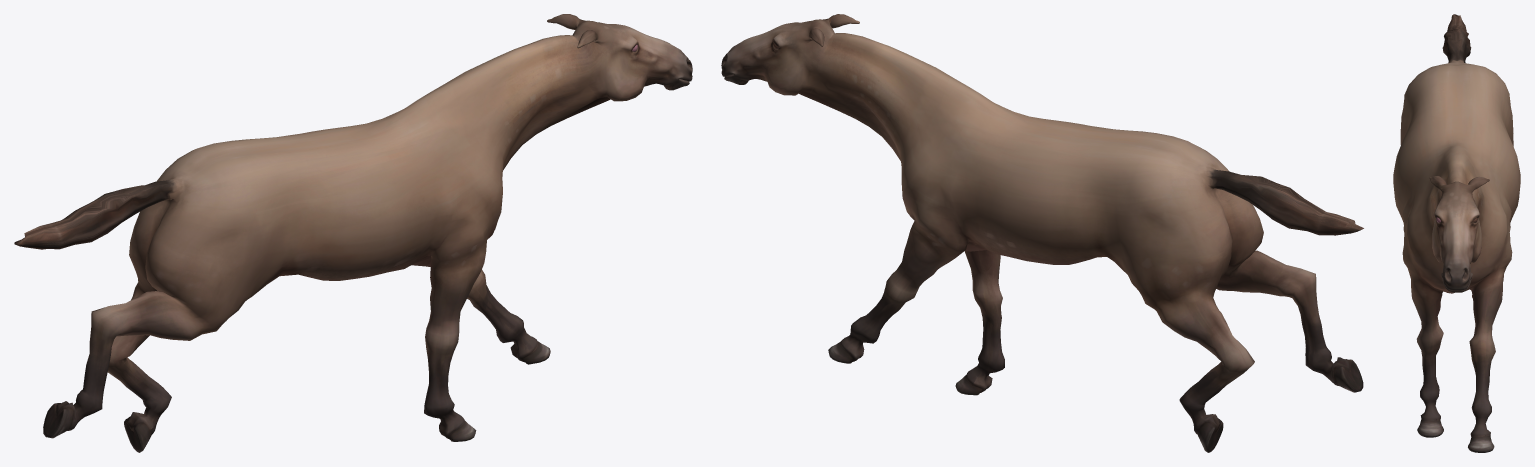
File: horse_run_cycle_on_place.glb
The picture shows the model from 3 angles, left to right: view 1: azimuth 30°, elevation 25°; view 2: azimuth 150°, elevation 25°; view 3: azimuth 270°, elevation 25°; orthographic projection. The views are drawn at different scales.
Parts seen in each view (by area): view 1: polySurface10Shape; view 2: polySurface10Shape; view 3: polySurface10Shape.
Boxes of the visible parts, left/top/right/bottom form: polySurface10Shape: left=14, top=14, right=692, bottom=452; polySurface10Shape: left=721, top=14, right=1363, bottom=452; polySurface10Shape: left=1393, top=14, right=1520, bottom=452.
Size of what is drawn, in the model's own units: 33.1 by 17.21 by 6.42.
1 material, 1 textured.
